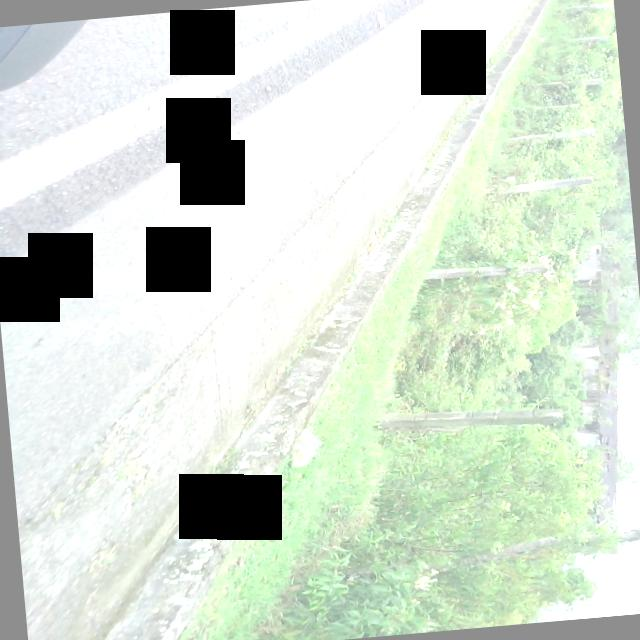DITCH: (0, 0, 612, 640), (0, 0, 609, 640)
